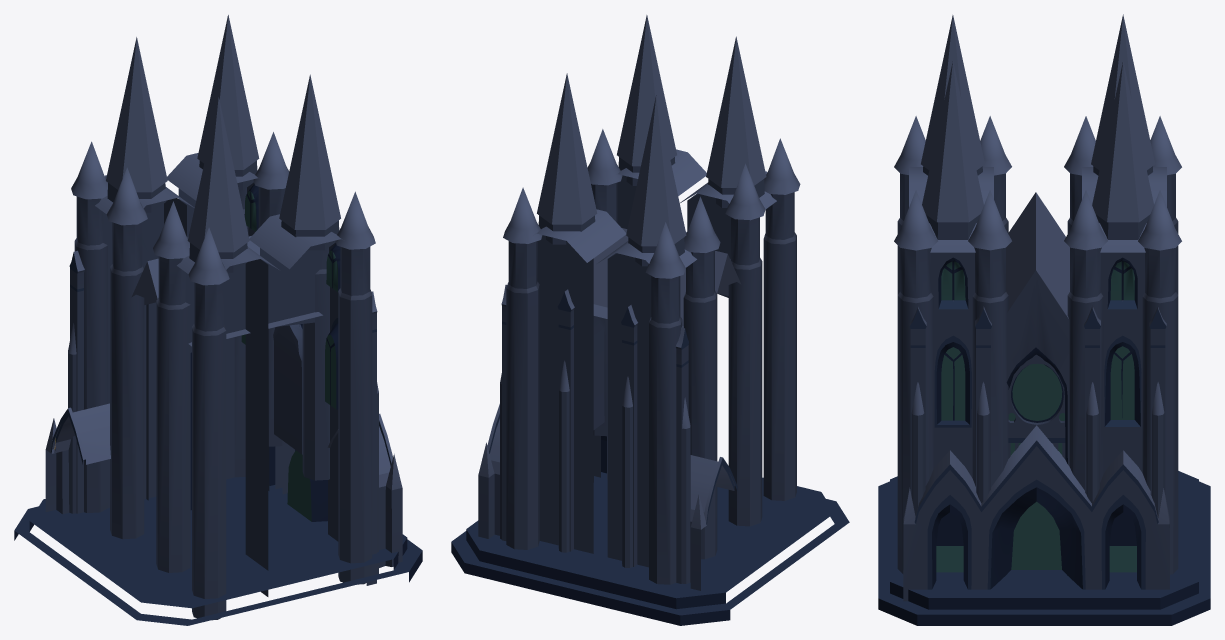
The model's file is temple.fbx.
The picture shows the model from 3 angles, left to right: view 1: azimuth 30°, elevation 25°; view 2: azimuth 150°, elevation 25°; view 3: azimuth 270°, elevation 25°; orthographic projection. The views are drawn at different scales.
Visible parts, largest first — view 1: polySurface158; view 2: polySurface158; view 3: polySurface158.
Part boxes in pixels (x1=…): polySurface158: x1=14, y1=15, x2=422, y2=625; polySurface158: x1=451, y1=15, x2=849, y2=625; polySurface158: x1=878, y1=14, x2=1210, y2=625.
Bounding box in the file's own units: 359 × 607 × 348.
